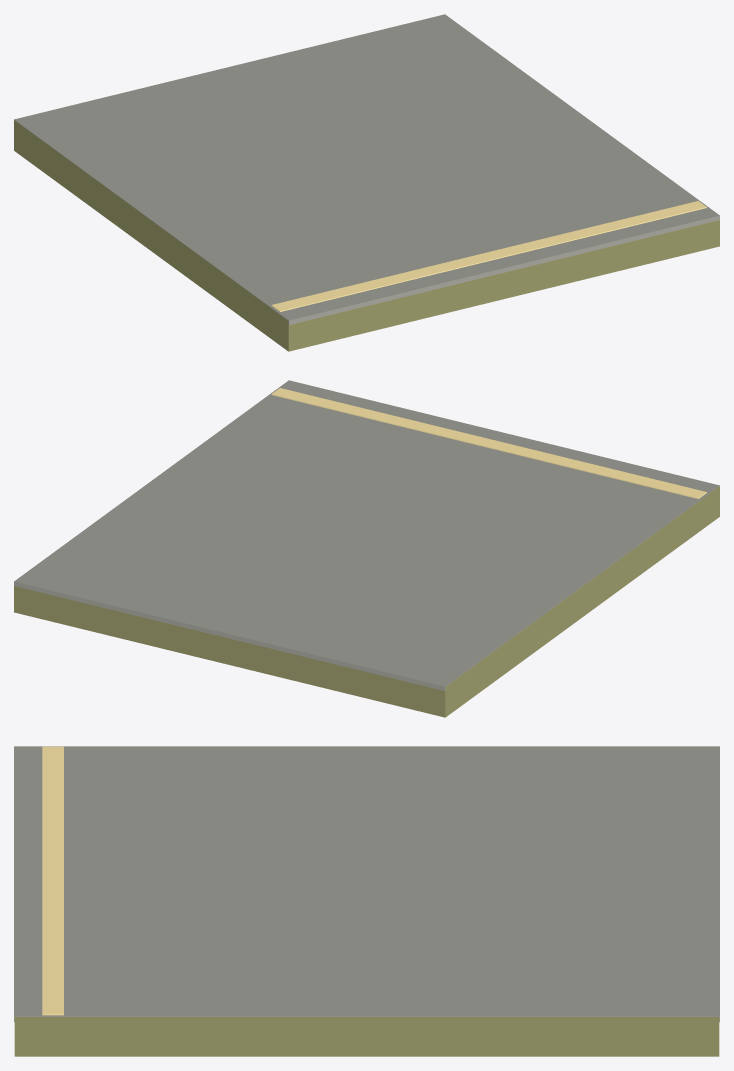
The model's file is SM_KitAnden_F11_v0_LOD1.fbx.
The picture shows the model from 3 angles, top to bottom: view 1: azimuth 30°, elevation 25°; view 2: azimuth 150°, elevation 25°; view 3: azimuth 270°, elevation 25°; orthographic projection. The views are drawn at different scales.
Visible parts, largest first — view 1: SM_kit_anden_v0_LOD1; view 2: SM_kit_anden_v0_LOD1; view 3: SM_kit_anden_v0_LOD1.
Boxes of the visible parts, x1,y1,x2,y2 form: SM_kit_anden_v0_LOD1: [14, 14, 719, 351]; SM_kit_anden_v0_LOD1: [14, 380, 719, 717]; SM_kit_anden_v0_LOD1: [14, 746, 719, 1056].
Size of the model in its own units: 9.98 by 0.71 by 11.02.
